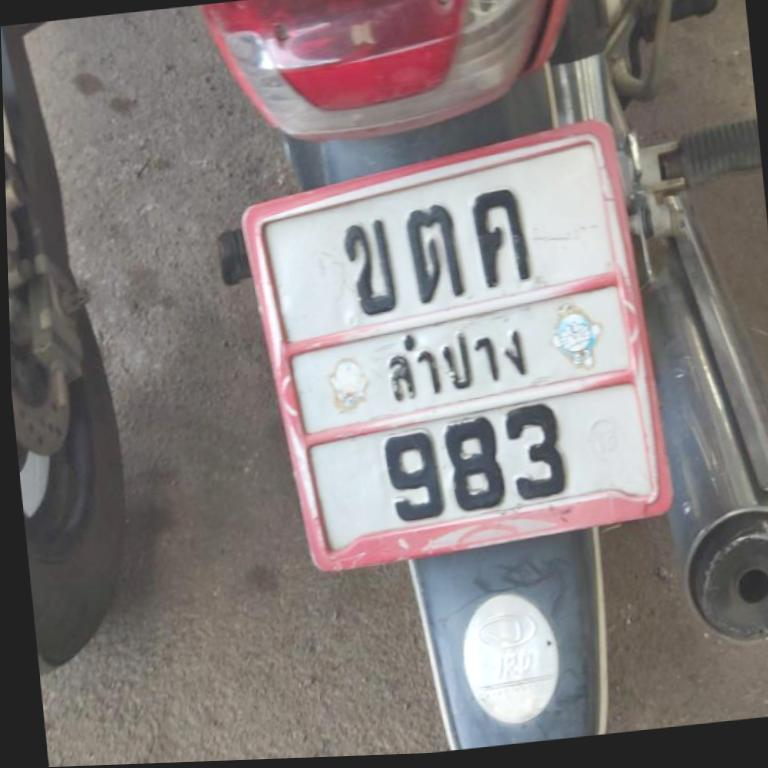license plate: (245, 122, 666, 568)
